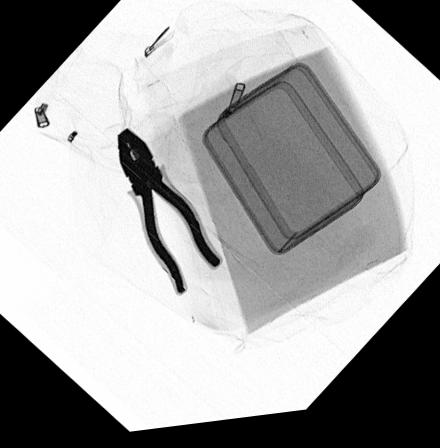Pliers: (114, 127, 222, 300)
